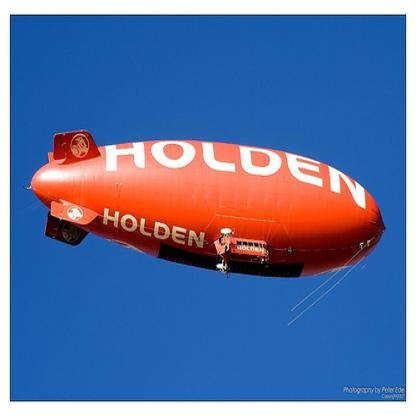Airship: (29, 127, 388, 285)
